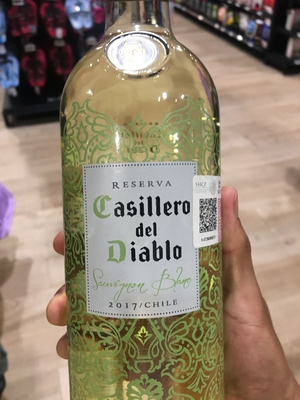casillero del diablo sauvignon blanc: (62, 28, 229, 400)
